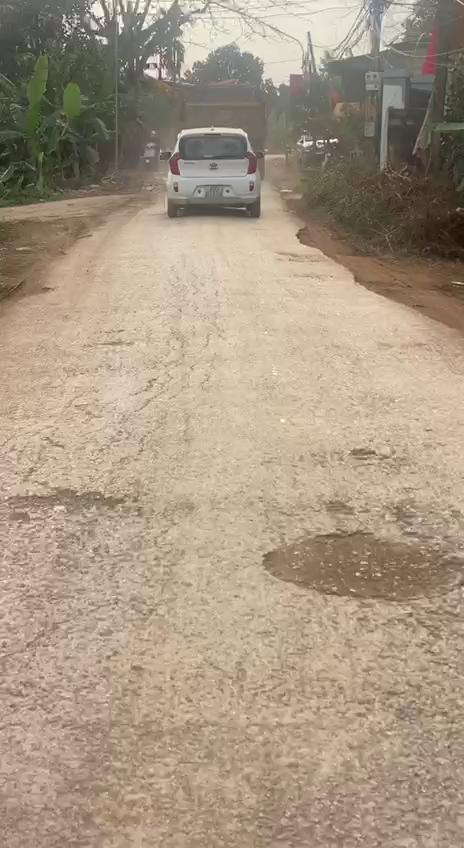pothole: (258, 526, 464, 612)
